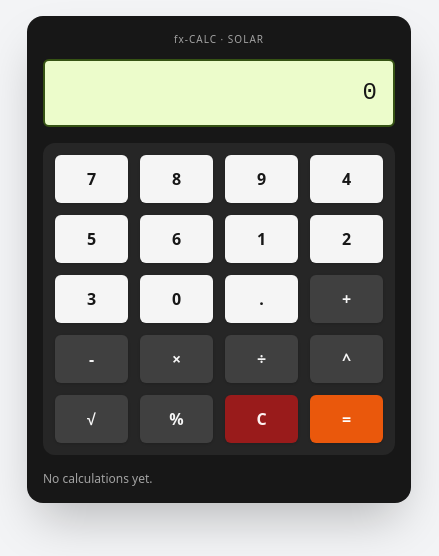
Scenario: Calculator › clear resets the display
This screenshot has width=439, height=556.
Click the button "7" at (92, 179), box [55,155,128,203]
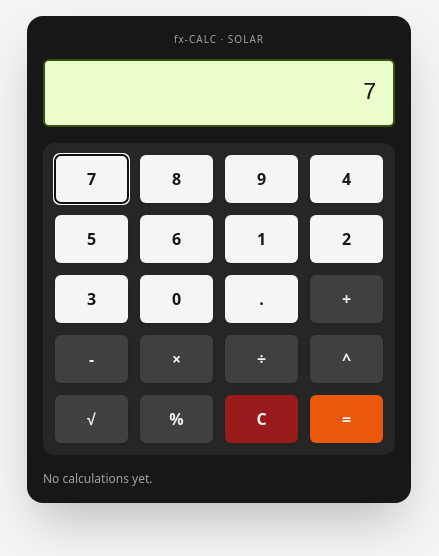
Click the button "C" at (262, 419), box [225,395,298,443]
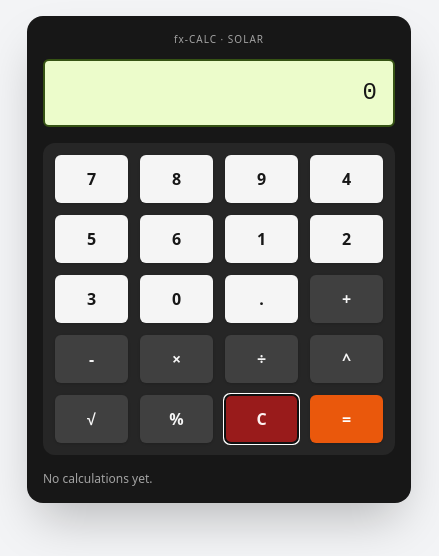
Check: the text with test id "display" reads "0", box [363,79,377,106]
